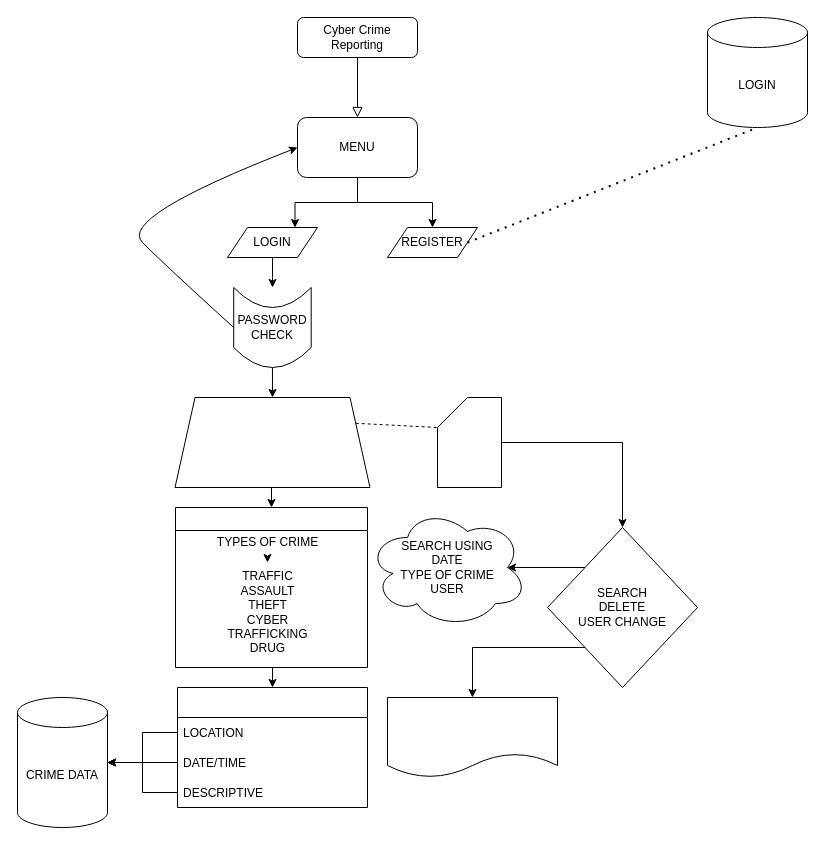
Some shapes in this 825 by 845 pixel diagram are drawn without their labels. The shapes that lost their labels are listed below. From the top down, each one's box as (x1, y1, x2, y2) in pixels, then its label:
(174, 396, 370, 488): CRIME REPORT HISTORY CHANGE PASSWORD EXIT
(436, 396, 502, 488): ADMIN MENU
(174, 506, 368, 668): CRIME REPORTING
(176, 686, 368, 808): List
(386, 696, 558, 778): USER SEARCH CHANGE USER DATA
